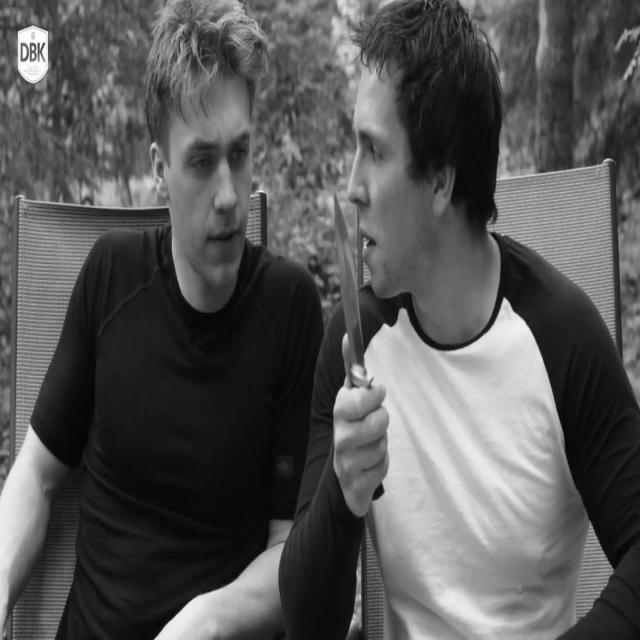knife: (332, 194, 384, 502)
